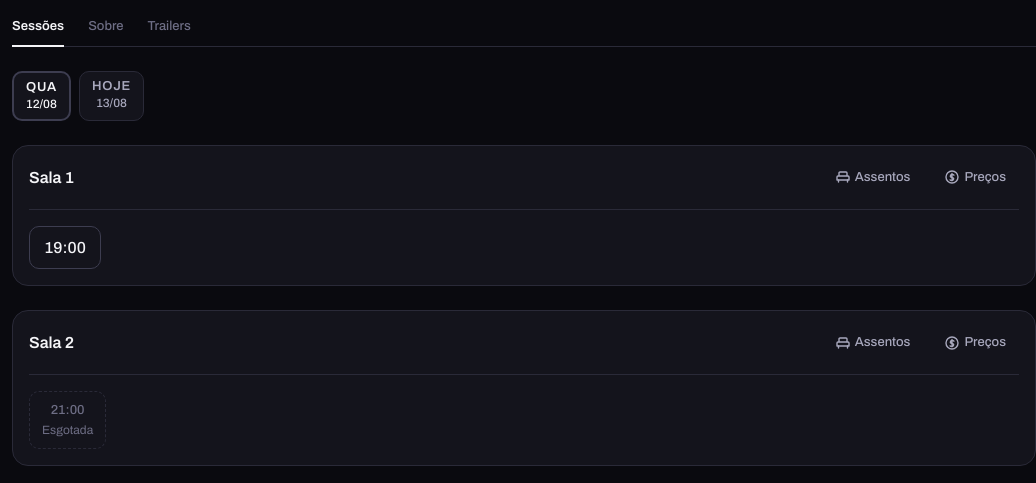
Test: seções Sessões, Sobre e Trailers › as três seções existem e só uma está visível
Click the tab "Sobre" at (106, 27), box [88,8,124,47]
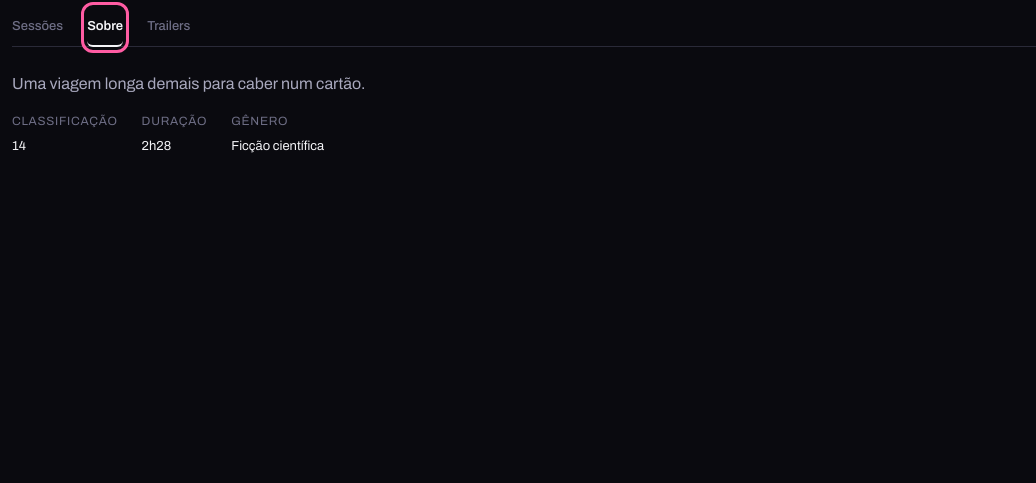
Result: the text "Uma viagem longa demais para caber num cartão." is shown at [12,75,366,92]
